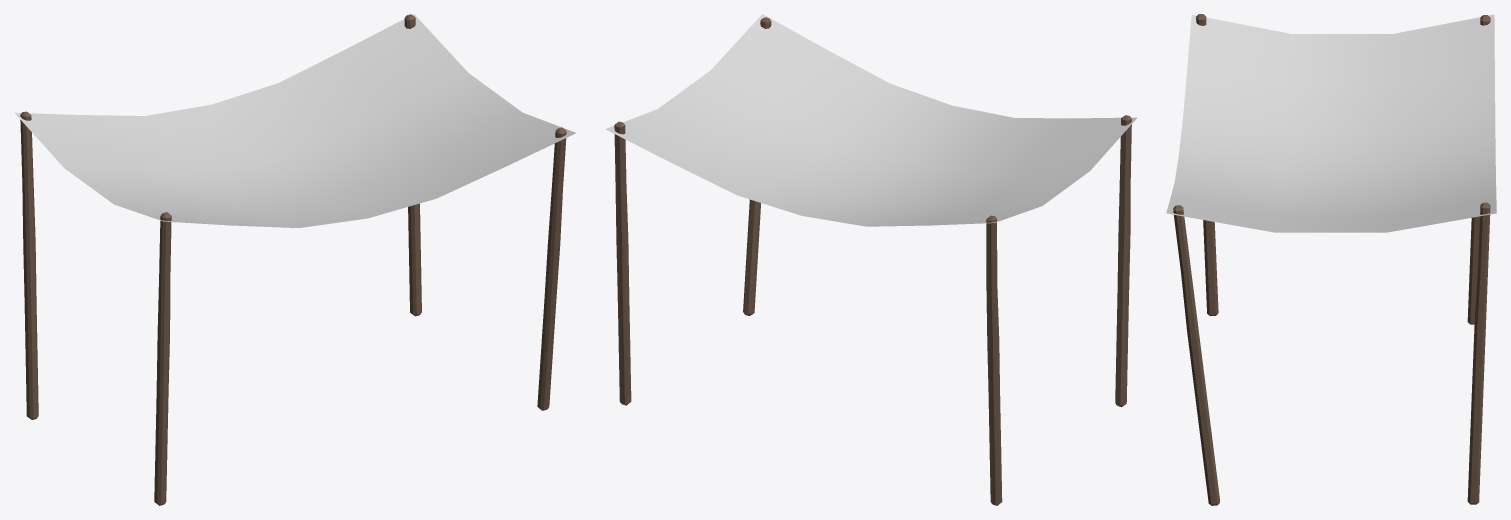
The model's file is Roof.fbx.
3 views of the same model, side by side, from view 1: azimuth 30°, elevation 25°; view 2: azimuth 150°, elevation 25°; view 3: azimuth 270°, elevation 25° (orthographic). The views are drawn at different scales.
Visible parts, largest first — view 1: Cube.015; view 2: Cube.015; view 3: Cube.015.
Boxes of the visible parts, x1=… form: Cube.015: x1=14, y1=14, x2=575, y2=505; Cube.015: x1=605, y1=14, x2=1137, y2=505; Cube.015: x1=1166, y1=14, x2=1496, y2=505.
Size of the model in its own units: 348 by 253 by 244.
